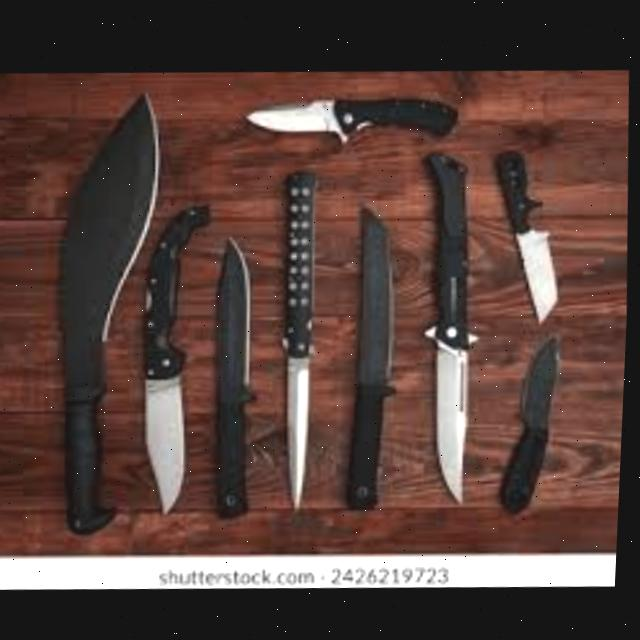Knife: (46, 88, 177, 534), (132, 198, 221, 514), (410, 146, 486, 503), (340, 201, 410, 506), (272, 167, 328, 509), (206, 232, 262, 515), (489, 143, 565, 321), (243, 86, 461, 147), (496, 331, 567, 510)
